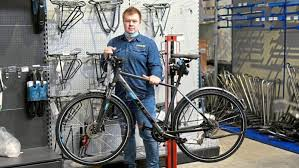mask_weared_incorrect: (124, 17, 139, 37)
